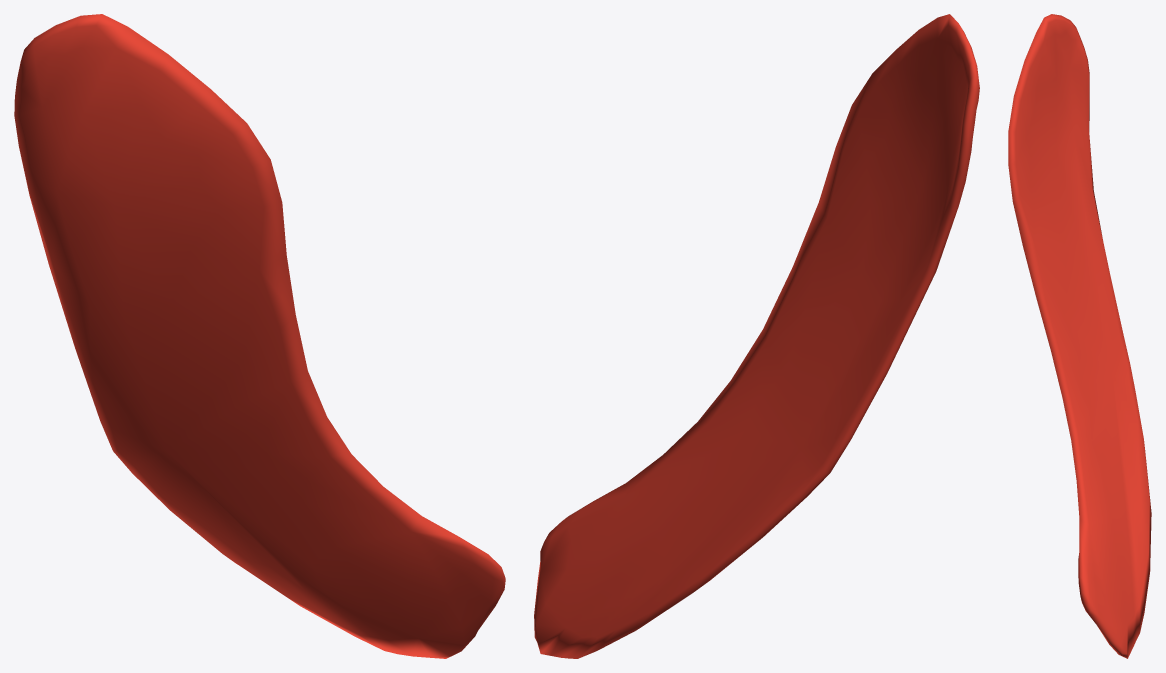
Rendered from Quadratus_femoris-Ischiatic_insertion.r_Generated_Mesh_From_X3D.glb.
3 renders of one model, left to right at view 1: azimuth 30°, elevation 25°; view 2: azimuth 150°, elevation 25°; view 3: azimuth 270°, elevation 25°, orthographic. The views are drawn at different scales.
Parts seen in each view (by area): view 1: Quadratus_femoris-Ischiatic_insertion.r_Generated_Mesh_From_; view 2: Quadratus_femoris-Ischiatic_insertion.r_Generated_Mesh_From_; view 3: Quadratus_femoris-Ischiatic_insertion.r_Generated_Mesh_From_.
Part boxes in pixels (<box>): Quadratus_femoris-Ischiatic_insertion.r_Generated_Mesh_From_: <box>14,14,505,658</box>; Quadratus_femoris-Ischiatic_insertion.r_Generated_Mesh_From_: <box>534,14,979,658</box>; Quadratus_femoris-Ischiatic_insertion.r_Generated_Mesh_From_: <box>1008,14,1151,658</box>.
Bounding box in the file's own units: 0.0189 × 0.0289 × 0.00733.
